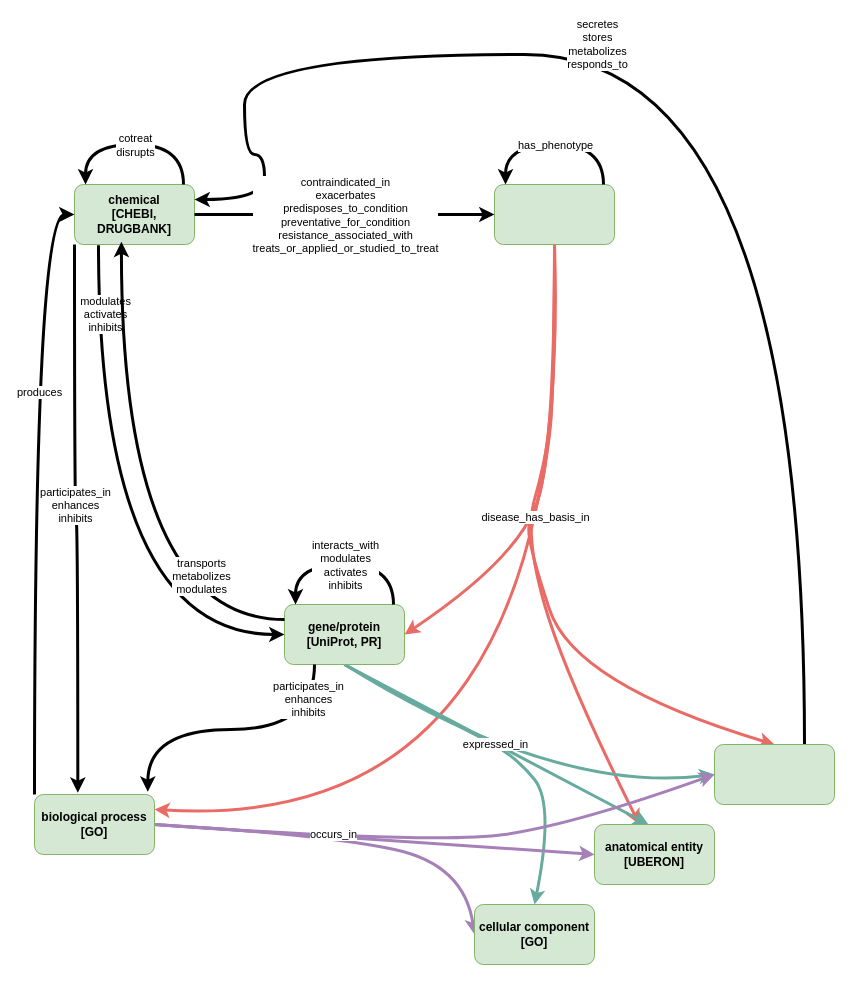
This 853x982 diagram has some shape labels left out. The centre of each missing label's shape, as x and y in pixels:
"cell [CL]" belongs at [774,774].
"disease/phenotype [HP, MONDO]" belongs at [554,214].
